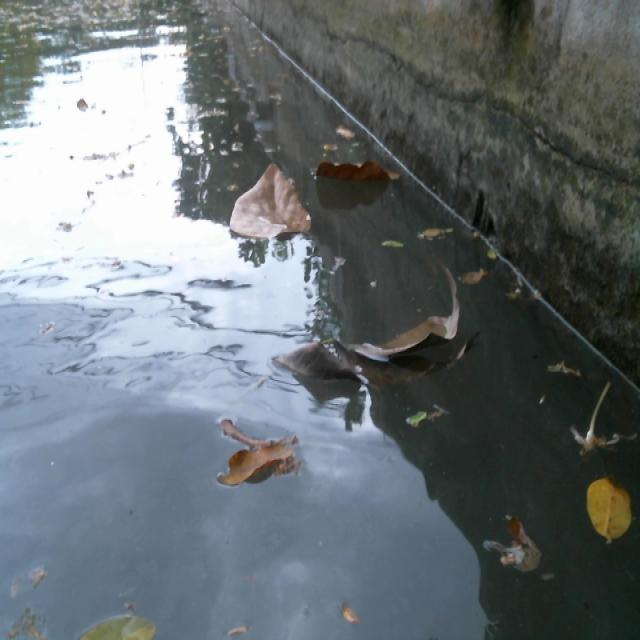Big-leaf: (273, 256, 468, 410), (204, 411, 306, 502), (225, 161, 319, 255), (314, 151, 419, 196)
Small-leaf: (472, 502, 563, 588), (585, 473, 640, 544), (65, 607, 180, 640), (401, 394, 465, 446), (552, 356, 594, 403), (416, 209, 458, 241), (382, 230, 417, 258), (222, 617, 258, 640), (335, 116, 365, 143), (464, 261, 495, 285), (338, 593, 358, 630)
